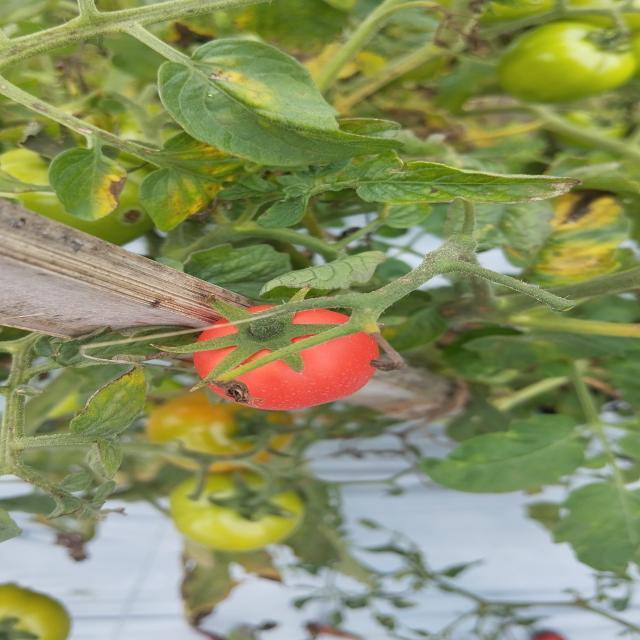Masak: (173, 292, 383, 432)
Mengkal: (499, 25, 635, 104), (168, 472, 304, 548), (28, 184, 161, 253), (141, 391, 239, 459), (3, 579, 79, 640)
